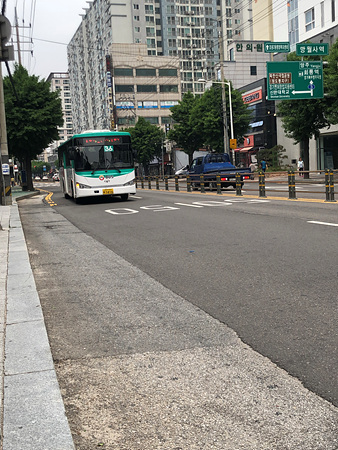bnum: (102, 143, 114, 152)
